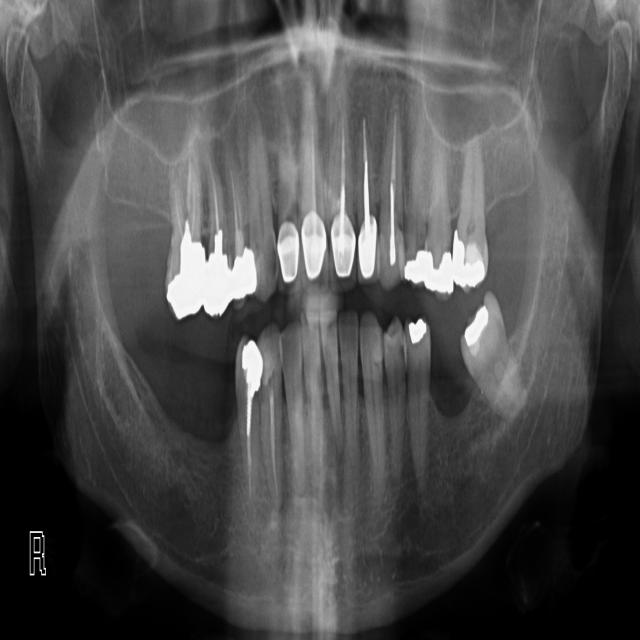tooth: (461, 292, 527, 402), (297, 86, 329, 293), (168, 153, 205, 318), (246, 122, 276, 300), (453, 136, 487, 287), (329, 111, 359, 278), (257, 325, 283, 509), (205, 148, 232, 316), (274, 125, 299, 292), (361, 313, 385, 486), (426, 151, 455, 294), (282, 321, 305, 491), (406, 319, 430, 481), (303, 322, 326, 491), (355, 117, 378, 281), (404, 119, 427, 283), (384, 320, 407, 476), (240, 340, 262, 494), (299, 82, 319, 232), (387, 109, 404, 282), (341, 312, 359, 472), (322, 312, 340, 439)
